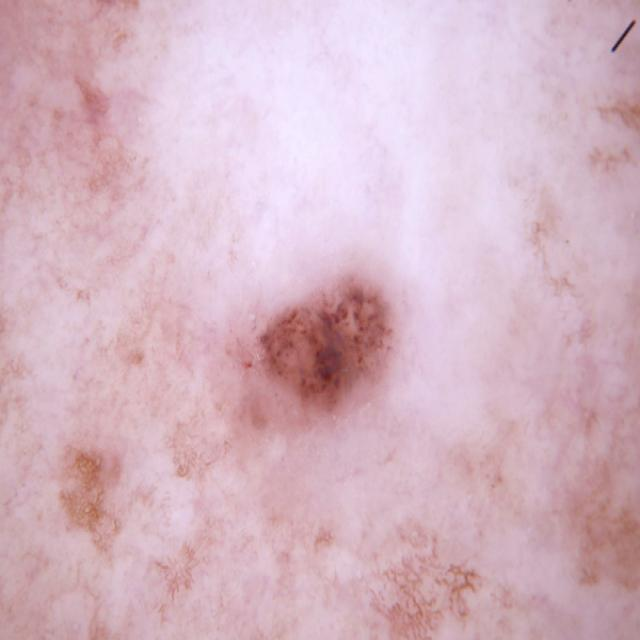Skin-Cancer Basal cell carcinoma: (9, 1, 640, 639)
